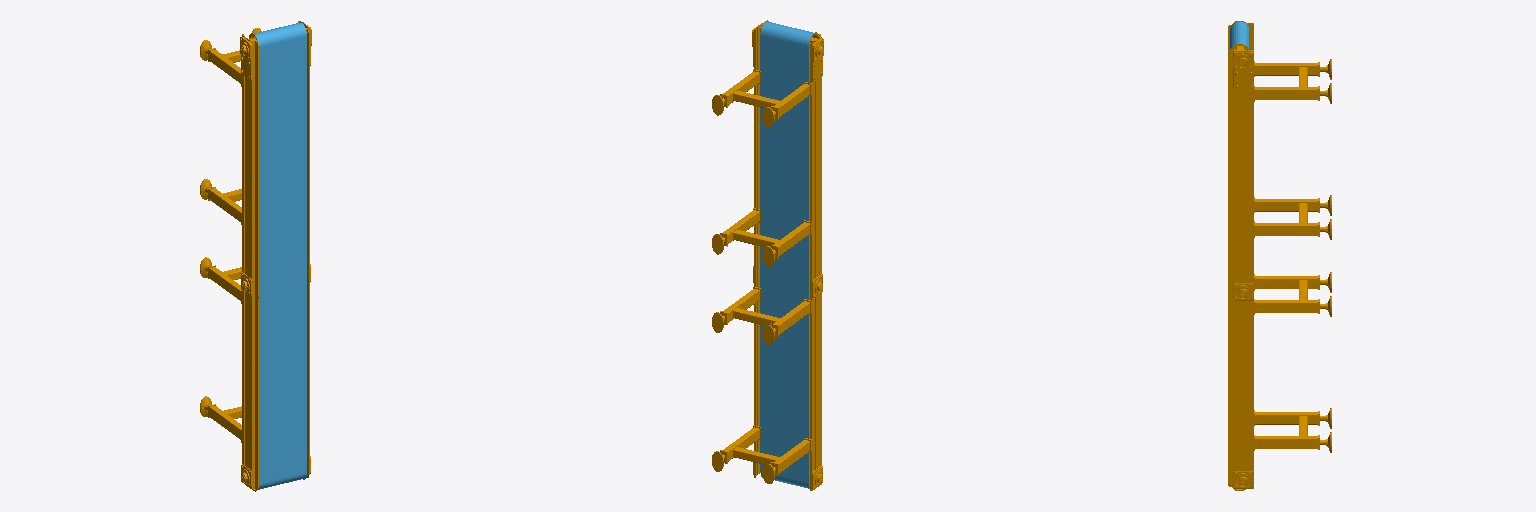
URDF robot description (conveyor):
<?xml version="1.0"?>
<robot name="conveyor">
 
    <link name="base_link">
        <visual>   <geometry> <mesh filename="conveyor2.dae"/> </geometry> </visual>
        <collision><geometry> <mesh filename="conveyor2.dae"/> </geometry> </collision>

        <visual>   <geometry> <mesh filename="conveyor3.dae"/> </geometry> </visual>
        <collision><geometry> <mesh filename="conveyor3.dae"/> </geometry> </collision>

        <visual>   <geometry> <mesh filename="conveyor4.dae"/> </geometry> </visual>
        <collision><geometry> <mesh filename="conveyor4.dae"/> </geometry> </collision>

        <visual>   <geometry> <mesh filename="conveyor5.dae"/> </geometry> </visual>
        <collision><geometry> <mesh filename="conveyor5.dae"/> </geometry> </collision>

        <visual>   <geometry> <mesh filename="conveyor6.dae"/> </geometry> </visual>
        <collision><geometry> <mesh filename="conveyor6.dae"/> </geometry> </collision>

        <inertial>
            <origin xyz="0 0 0" rpy="0 0 0"/>
            <mass value="4.0"/> <inertia ixx="0.8" ixy="0.0" ixz="0.0" iyy="0.8" iyz="0.0" izz="0.4"/>
        </inertial>
    </link>
 
    <link name="belt_link">
        <visual>   <geometry> <mesh filename="conveyor1.dae"/> </geometry> </visual>
        <collision><geometry> <mesh filename="conveyor1.dae"/> </geometry> </collision>
        
        <inertial>
            <origin xyz="0 0 0" rpy="0 0 0"/>
            <mass value="1.0"/>
            <inertia ixx="0.2" ixy="0.0" ixz="0.0" iyy="0.2" iyz="0.0" izz="0.1"/>
        </inertial>
    </link>

    <joint name="base_to_belt" type="fixed">
        <parent link="base_link"/>
        <child link="belt_link"/>
        <origin xyz="0 0 0" rpy="0 0 0"/> </joint>

</robot>

--- Render facts (derived) ---
3 views of the same robot in one strip: view 1: azimuth 30°, elevation 25°; view 2: azimuth 150°, elevation 25°; view 3: azimuth 270°, elevation 25° (orthographic).
Robot: conveyor — 2 links, 1 joints (1 fixed); root link base_link; default pose: every joint at zero.
Visible links, largest first — view 1: belt_link, base_link; view 2: belt_link, base_link; view 3: base_link.
Boxes of the visible links, x1,y1,x2,y2 form: belt_link: (254, 22, 306, 489); base_link: (200, 21, 311, 491); belt_link: (760, 21, 813, 488); base_link: (712, 20, 823, 490); base_link: (1228, 21, 1331, 490).
Bounding box of the posed robot: 0.5621 × 0.7494 × 3.57 m (x, y, z).
Meshes: 6 distinct files referenced, 6 mesh visuals loaded (6 Collada DAE).
